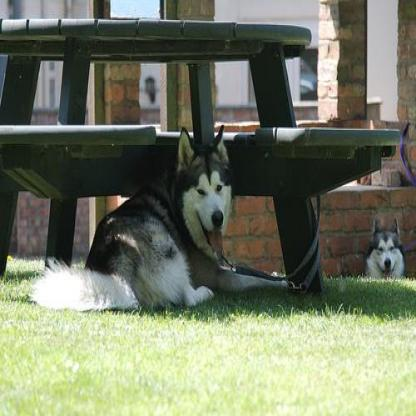malamute: (26, 121, 295, 310), (364, 212, 406, 280)
